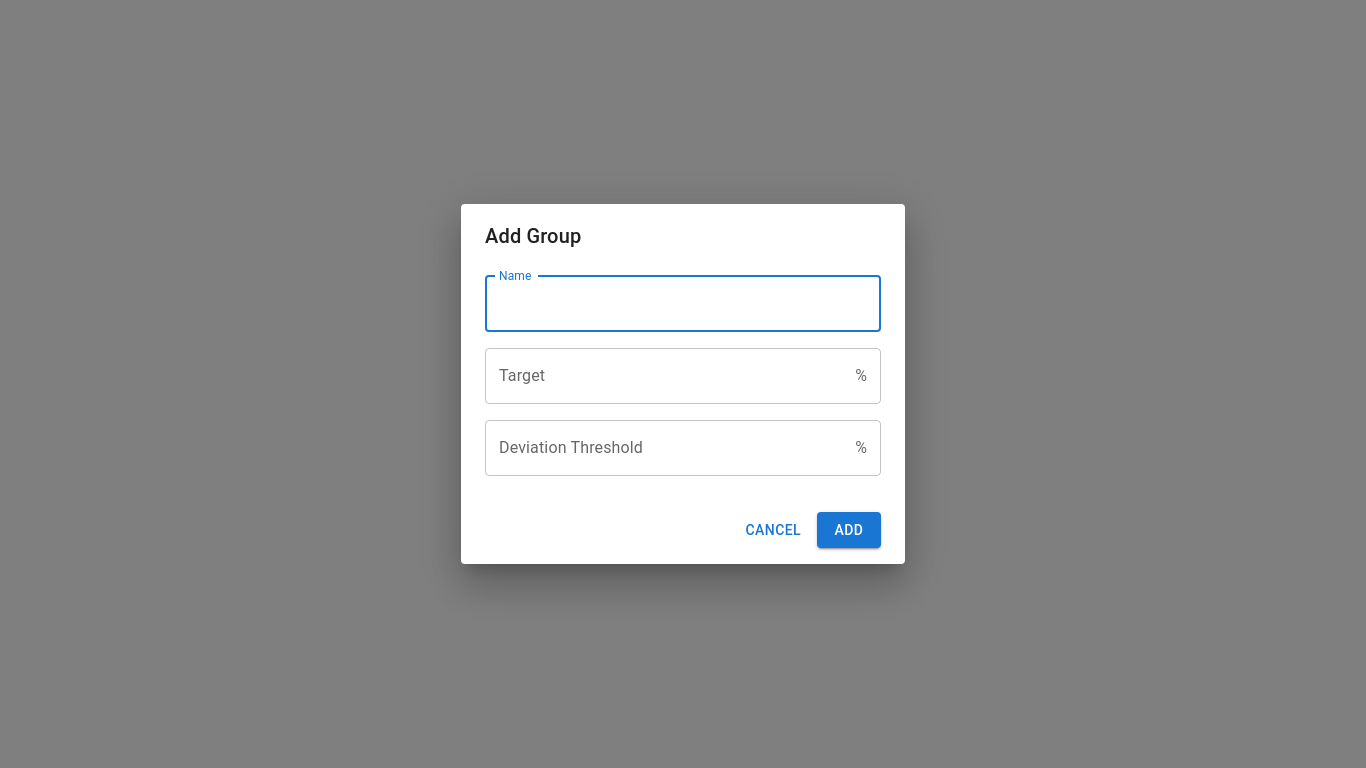
Test: GroupDialog › shows validation errors for empty name
The width and height of the screenshot is (1366, 768).
In the number field labelled "Target": (666, 376) [485, 348, 847, 404], type "50"
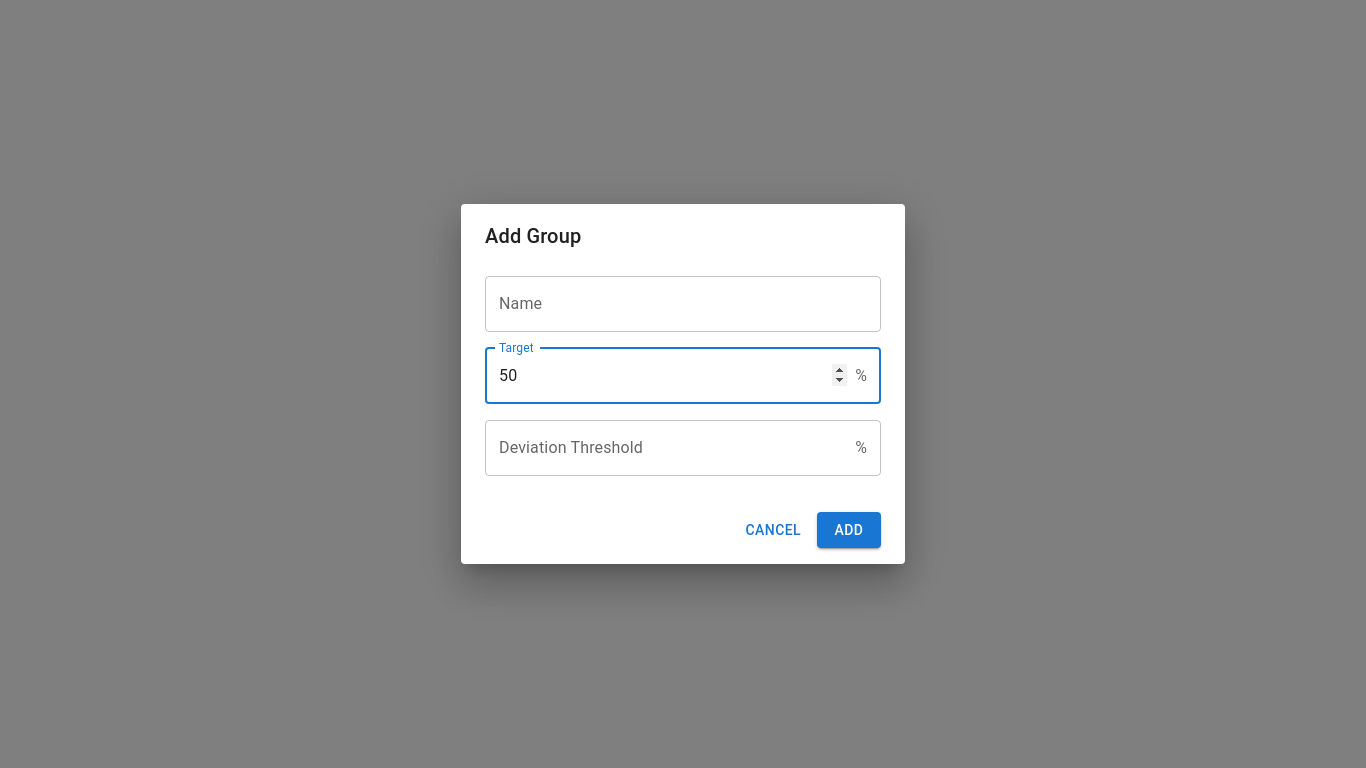
In the number field labelled "Deviation Threshold": (666, 448) [485, 420, 847, 476], type "5"
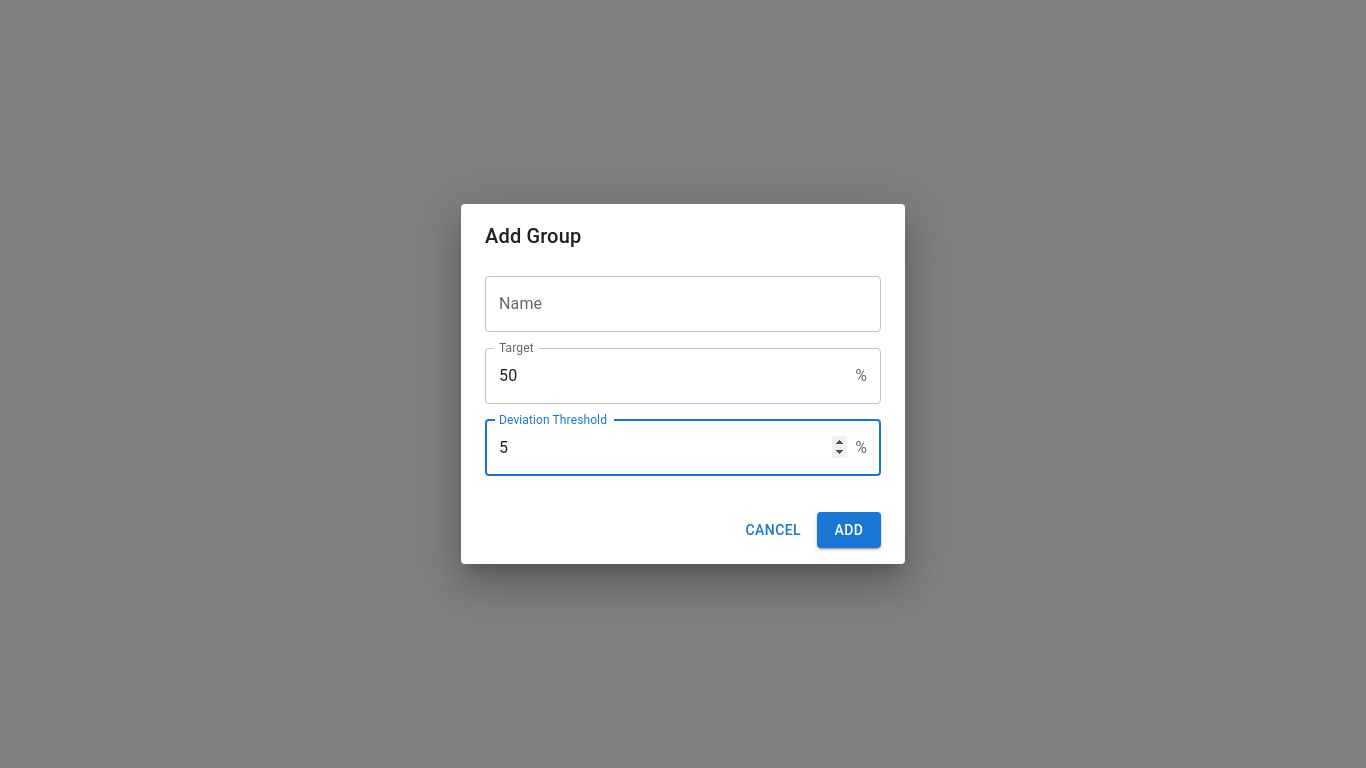
Click the button "Add": click(849, 530) [817, 512, 881, 548]
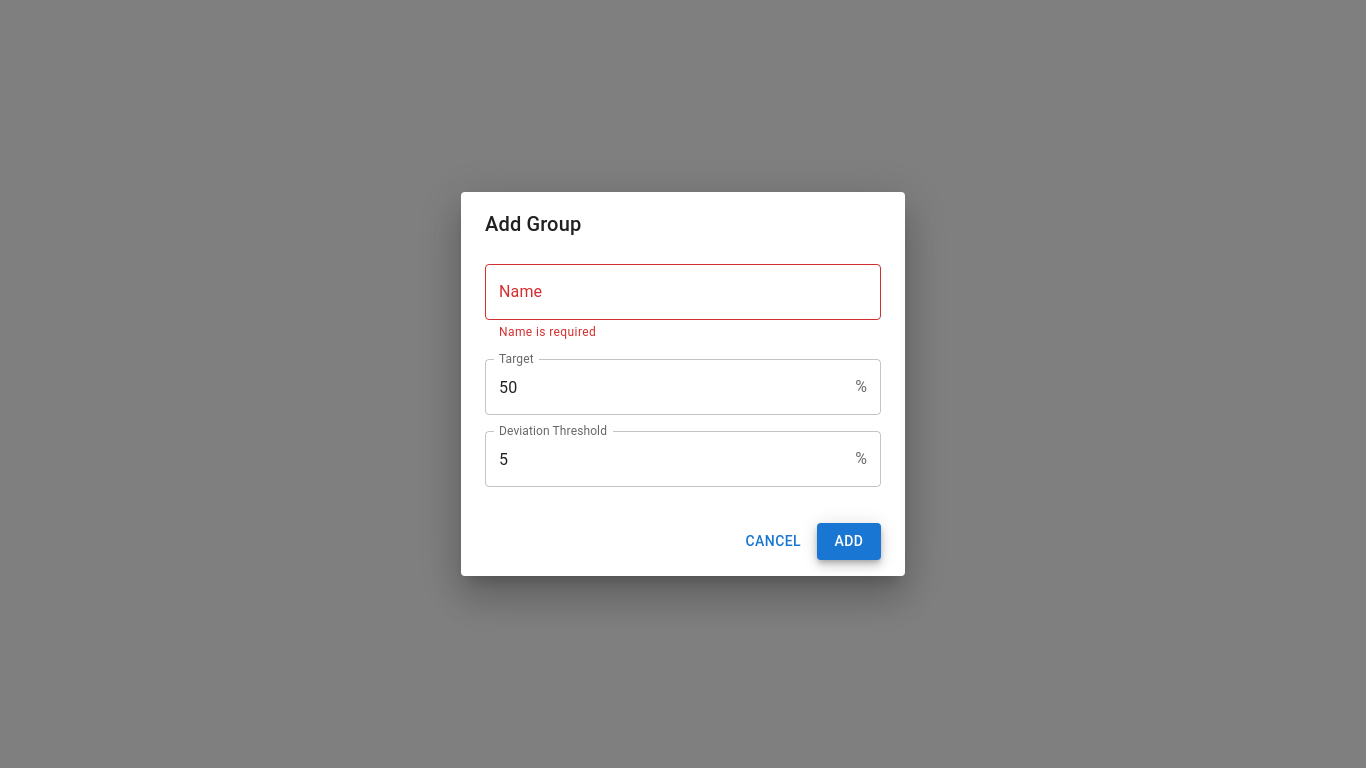
Check: the text "Name is required" is shown, box [499, 325, 596, 339]
